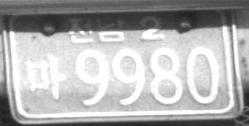0: (184, 45, 220, 106)
2: (138, 13, 165, 41)
8: (148, 45, 184, 105)
9: (110, 46, 146, 107), (73, 48, 108, 107)
마: (23, 53, 66, 99)
전남_O: (66, 14, 128, 44)
